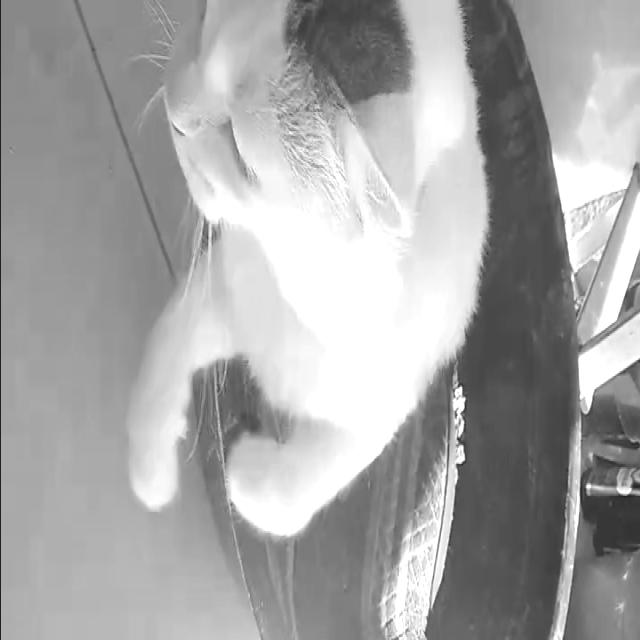Simba: (118, 0, 514, 544)
